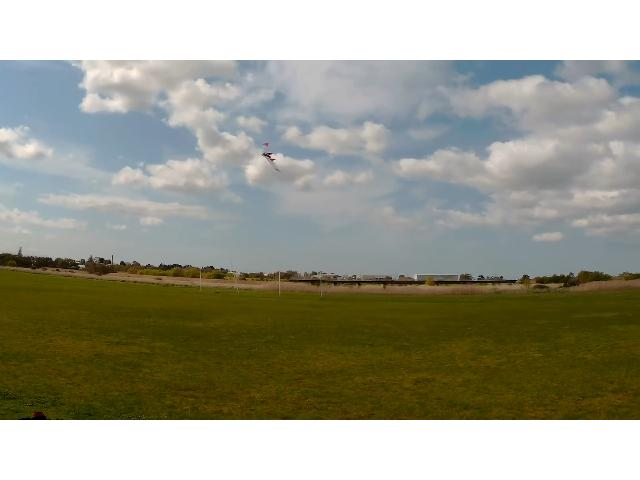Anti-Drone: (260, 143, 284, 171)
